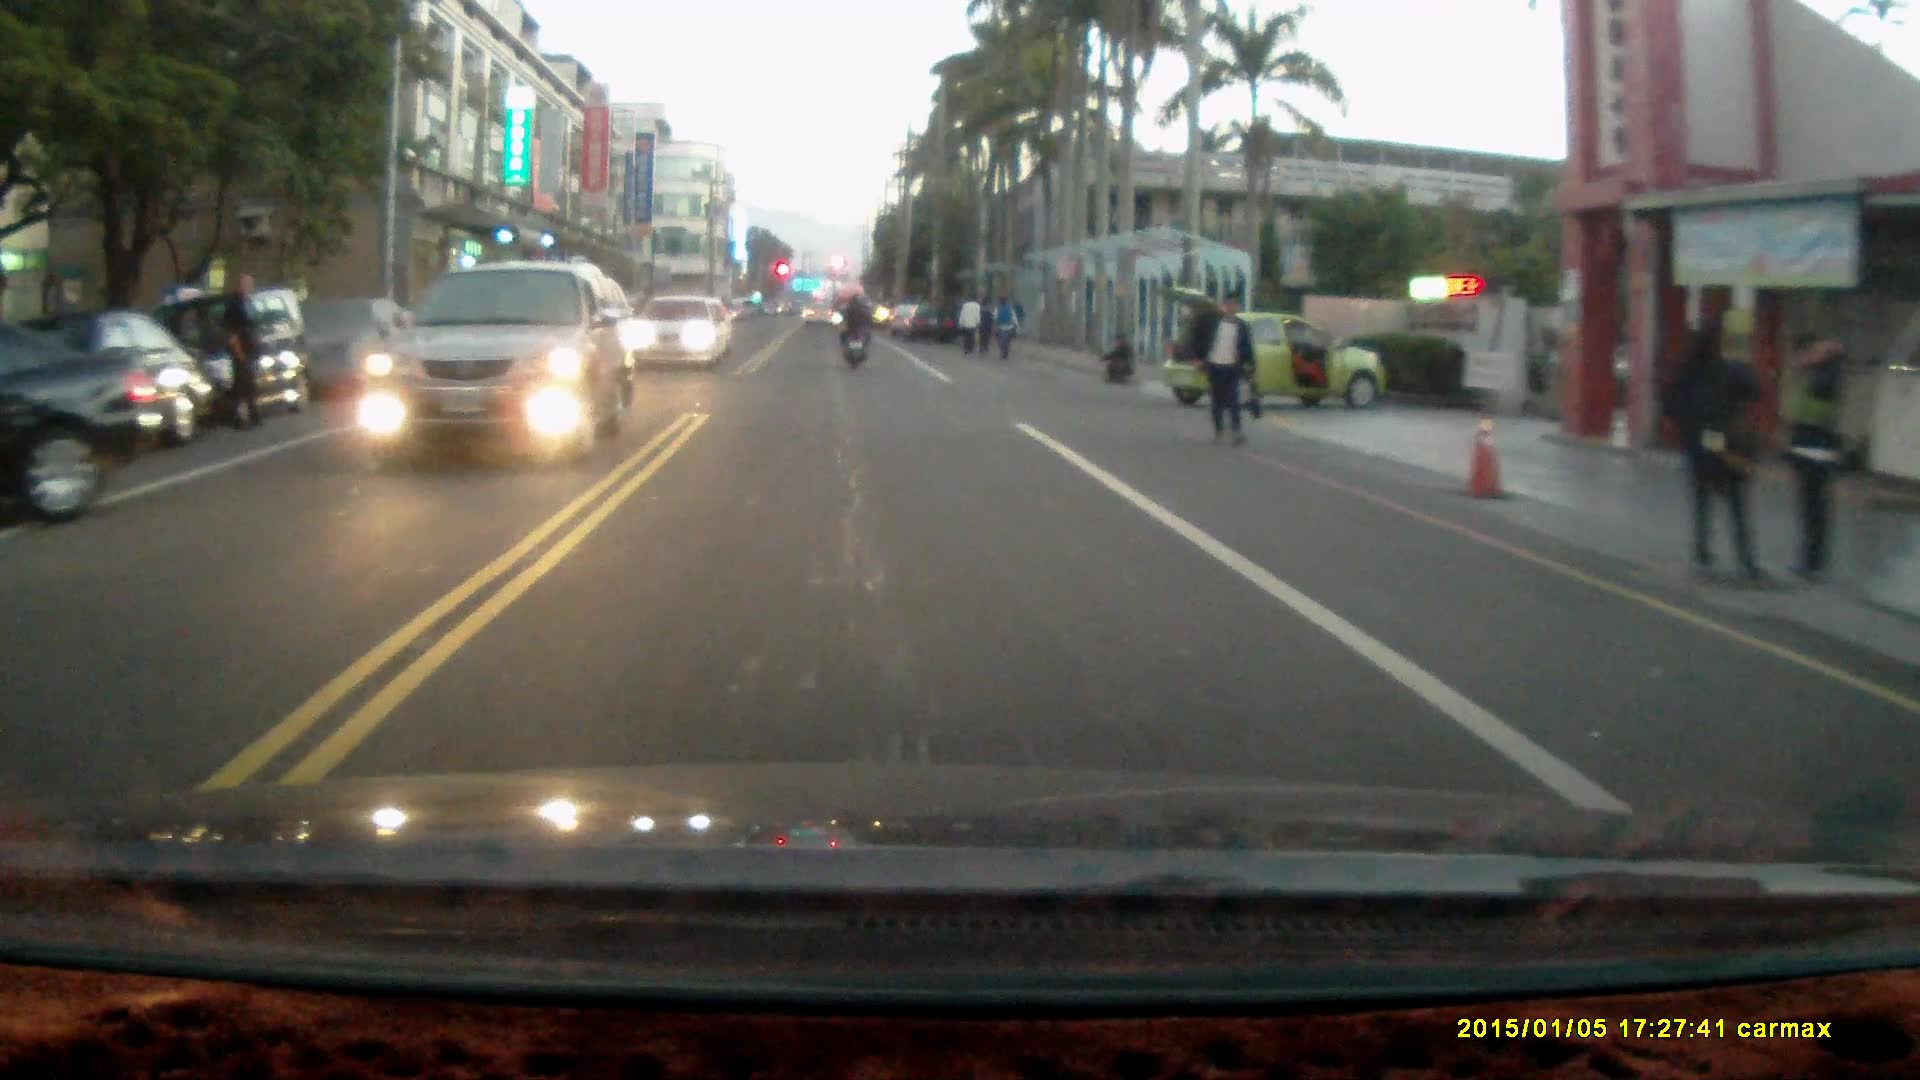pedestrian: (1661, 319, 1779, 599), (1781, 328, 1841, 588), (1188, 286, 1258, 450), (1100, 329, 1133, 386), (991, 290, 1017, 361), (959, 294, 982, 365), (976, 297, 996, 362)
rider: (835, 292, 874, 371)
vehicle: (367, 264, 634, 463), (0, 312, 164, 537), (1160, 286, 1392, 414), (162, 291, 319, 427), (632, 299, 737, 375)
